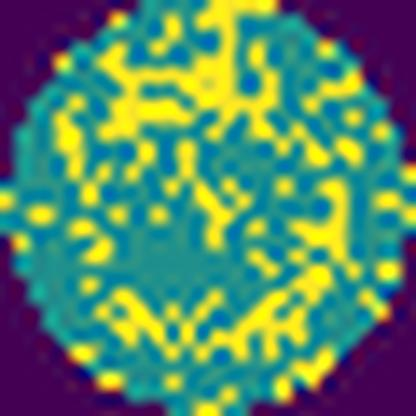Donut: (68, 47, 354, 371)
